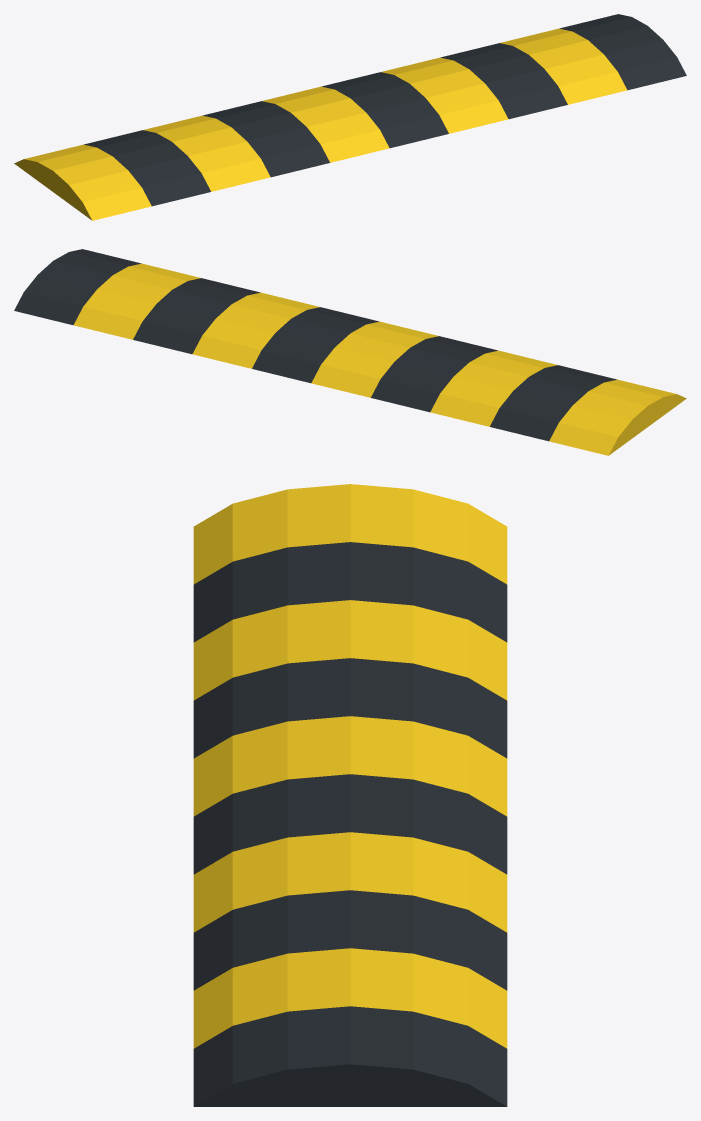
The model's file is loma-de-burro.glb.
3 views of the same model, one above another, from view 1: azimuth 30°, elevation 25°; view 2: azimuth 150°, elevation 25°; view 3: azimuth 270°, elevation 25° (orthographic). The views are drawn at different scales.
Visible parts, largest first — view 1: Loma_modulo_0, Loma_modulo_9, Loma_modulo_2, Loma_modulo_5, Loma_modulo_4, Loma_modulo_8, Loma_modulo_1, Loma_modulo_7, Loma_modulo_3, Loma_modulo_6; view 2: Loma_modulo_0, Loma_modulo_9, Loma_modulo_2, Loma_modulo_5, Loma_modulo_4, Loma_modulo_8, Loma_modulo_1, Loma_modulo_7, Loma_modulo_3, Loma_modulo_6; view 3: Loma_modulo_9, Loma_modulo_1, Loma_modulo_4, Loma_modulo_5, Loma_modulo_7, Loma_modulo_3, Loma_modulo_6, Loma_modulo_8, Loma_modulo_2, Loma_modulo_0.
Part boxes in pixels (x1,y1,x2,y2): Loma_modulo_0: (14,144,151,220); Loma_modulo_9: (559,14,686,90); Loma_modulo_2: (143,115,270,191); Loma_modulo_5: (321,72,448,148); Loma_modulo_4: (262,86,389,162); Loma_modulo_8: (500,28,626,104); Loma_modulo_1: (84,130,210,206); Loma_modulo_7: (440,43,567,119); Loma_modulo_3: (203,101,329,177); Loma_modulo_6: (381,57,508,133); Loma_modulo_0: (549,379,686,455); Loma_modulo_9: (14,249,141,325); Loma_modulo_2: (430,350,557,426); Loma_modulo_5: (252,307,379,383); Loma_modulo_4: (311,321,438,397); Loma_modulo_8: (74,263,200,339); Loma_modulo_1: (490,365,616,441); Loma_modulo_7: (133,278,260,354); Loma_modulo_3: (371,336,497,412); Loma_modulo_6: (192,292,319,368); Loma_modulo_9: (193,1006,507,1106); Loma_modulo_1: (193,542,507,642); Loma_modulo_4: (193,716,507,816); Loma_modulo_5: (193,774,507,874); Loma_modulo_7: (193,890,507,990); Loma_modulo_3: (193,658,507,758); Loma_modulo_6: (193,832,507,932); Loma_modulo_8: (193,948,507,1048); Loma_modulo_2: (193,600,507,700); Loma_modulo_0: (193,484,507,584).
Size of the model in its own units: 3.5 by 0.12 by 0.8.
